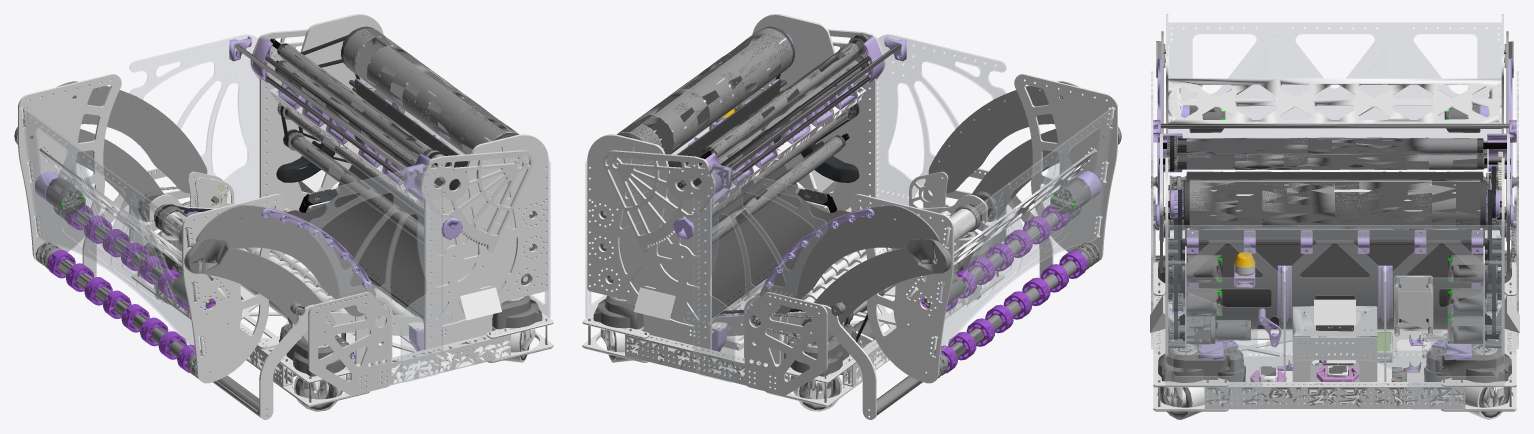
The model's file is roman-6329.glb.
The picture shows the model from 3 angles, left to right: view 1: azimuth 30°, elevation 25°; view 2: azimuth 150°, elevation 25°; view 3: azimuth 270°, elevation 25°; orthographic projection. The views are drawn at different scales.
Parts seen in each view (by area): view 1: frame, intake, intake-driven-arm, flywheel, intake-drive-arm, intake-roller-0, intake-roller-1, intake-dropdown, shooter-roller-0, shooter-roller-3, shooter-roller-1, shooter-roller-2 (+2 smaller); view 2: frame, intake, intake-driven-arm, flywheel, intake-drive-arm, intake-roller-0, intake-roller-1, intake-dropdown, shooter-roller-0, shooter-roller-3, shooter-roller-1, shooter-roller-2 (+2 smaller); view 3: frame, intake, flywheel, shooter-roller-0, shooter-roller-1, intake-driven-arm, intake-dropdown, intake-roller-1, intake-roller-0.
Part boxes in pixels (x1=…): frame: x1=129, y1=14, x2=553, y2=411; intake: x1=14, y1=74, x2=285, y2=383; intake-driven-arm: x1=52, y1=81, x2=375, y2=316; flywheel: x1=341, y1=26, x2=519, y2=154; intake-drive-arm: x1=15, y1=125, x2=335, y2=345; intake-roller-0: x1=35, y1=241, x2=202, y2=378; intake-roller-1: x1=54, y1=204, x2=214, y2=311; intake-dropdown: x1=82, y1=183, x2=319, y2=419; shooter-roller-0: x1=270, y1=38, x2=436, y2=165; shooter-roller-3: x1=290, y1=135, x2=423, y2=243; shooter-roller-1: x1=275, y1=60, x2=442, y2=185; shooter-roller-2: x1=278, y1=104, x2=443, y2=224; frame: x1=582, y1=14, x2=1006, y2=411; intake: x1=850, y1=74, x2=1121, y2=383; intake-driven-arm: x1=760, y1=81, x2=1083, y2=316; flywheel: x1=617, y1=26, x2=794, y2=154; intake-drive-arm: x1=800, y1=125, x2=1120, y2=345; intake-roller-0: x1=926, y1=241, x2=1099, y2=377; intake-roller-1: x1=908, y1=204, x2=1081, y2=323; intake-dropdown: x1=816, y1=194, x2=1053, y2=419; shooter-roller-0: x1=699, y1=40, x2=863, y2=165; shooter-roller-3: x1=712, y1=133, x2=849, y2=243; shooter-roller-1: x1=693, y1=57, x2=865, y2=185; shooter-roller-2: x1=683, y1=107, x2=851, y2=228; frame: x1=1150, y1=71, x2=1519, y2=419; intake: x1=1156, y1=14, x2=1513, y2=190; flywheel: x1=1168, y1=179, x2=1501, y2=228; shooter-roller-0: x1=1163, y1=137, x2=1506, y2=153; shooter-roller-1: x1=1159, y1=154, x2=1510, y2=169; intake-driven-arm: x1=1157, y1=31, x2=1512, y2=241; intake-dropdown: x1=1151, y1=176, x2=1518, y2=265; intake-roller-1: x1=1182, y1=140, x2=1487, y2=158; intake-roller-0: x1=1169, y1=175, x2=1500, y2=190.
Size of the model in its own units: 0.942 by 0.5478 by 0.7755.
